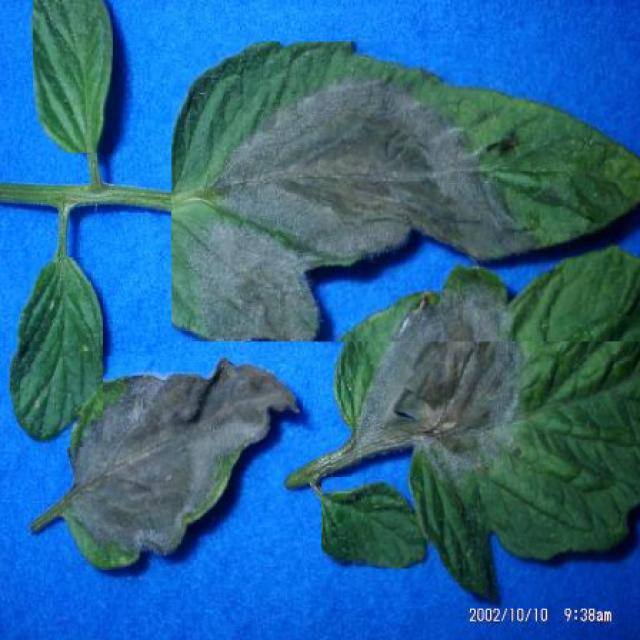Healthy: (12, 257, 102, 447), (34, 0, 114, 153), (322, 478, 431, 568)
Late Blight: (171, 41, 640, 342), (330, 258, 640, 609), (64, 356, 303, 574)
